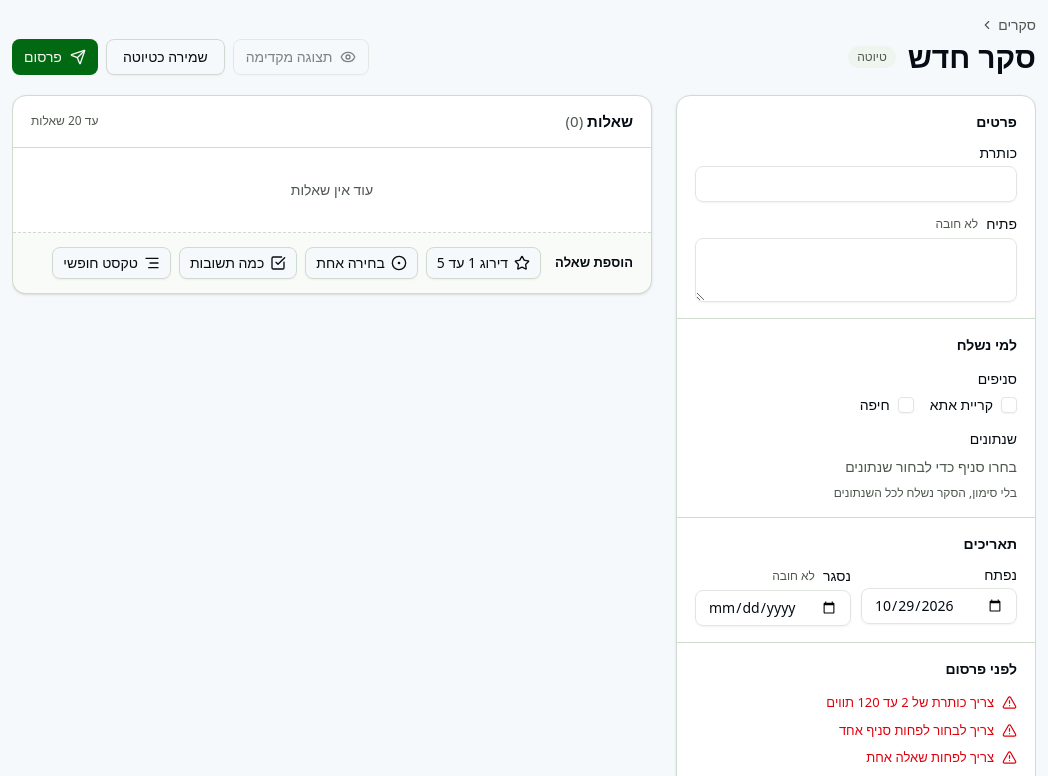
SurveyBuilder: options › a blank option is outlined only after a publish was tried
The image size is (1048, 776).
Click the button "בחירה אחת" at (362, 262), box [305,246,418,278]
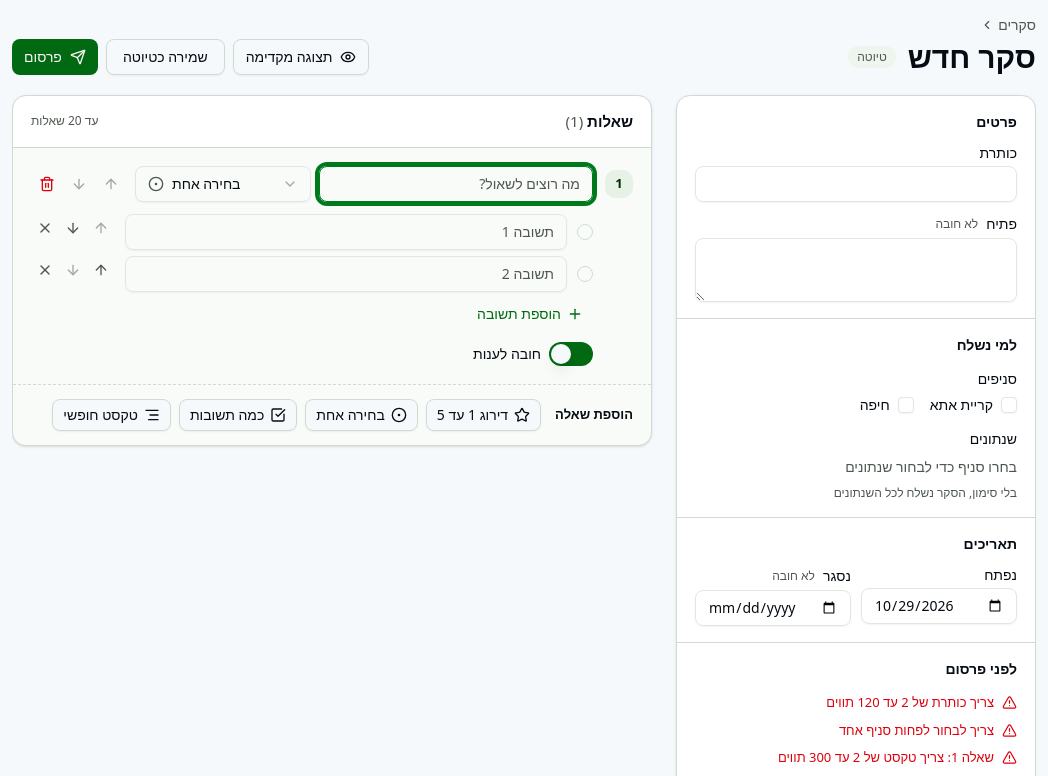
Type "פעם אחת" into the field named "תשובה 1 בשאלה 1" at (346, 232), box [125,214,567,250]
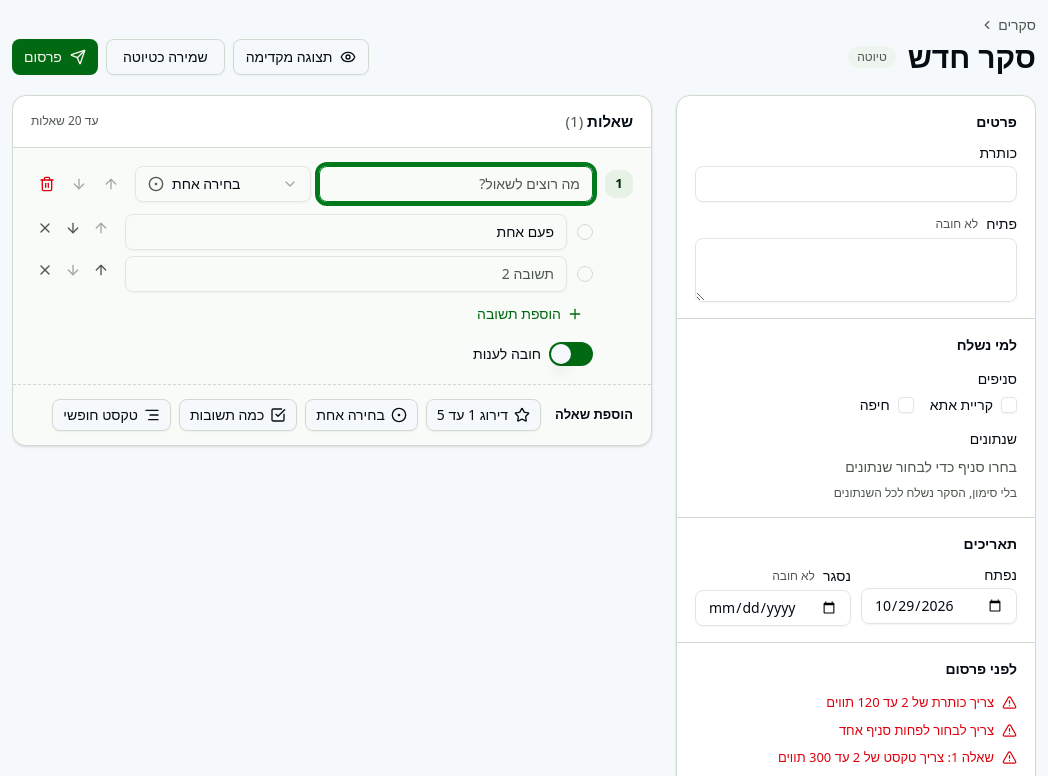
Type "פעמיים" into the field named "תשובה 2 בשאלה 1" at (346, 274), box [125,256,567,292]
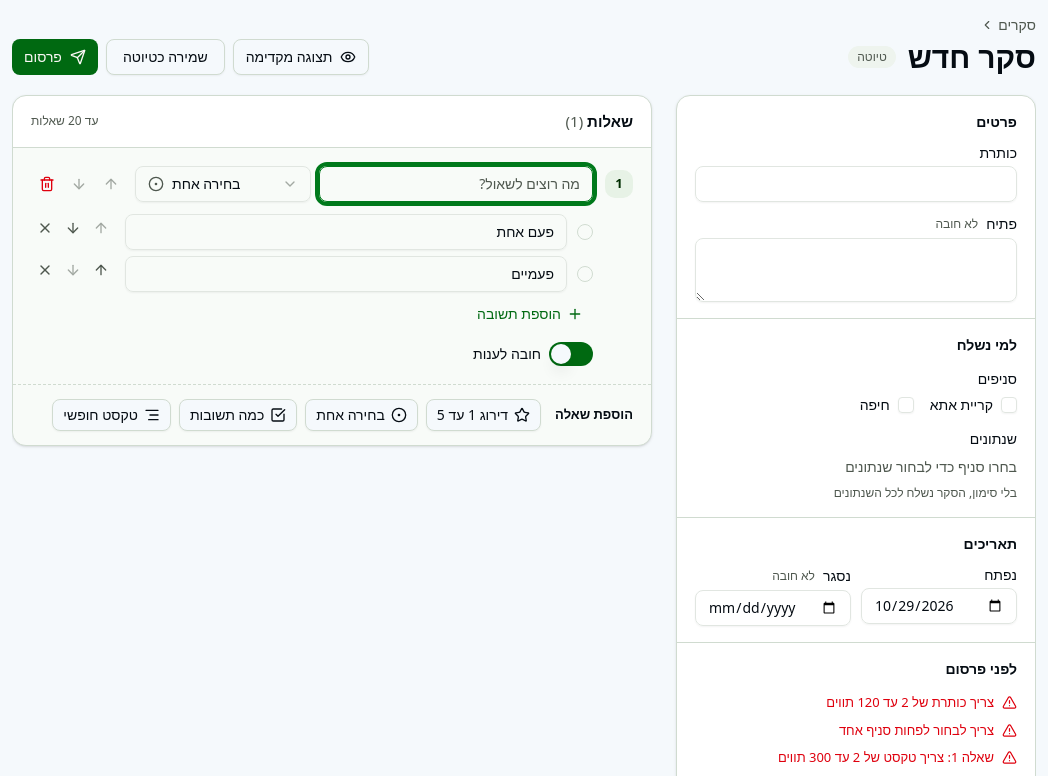
Click the button "הוספת תשובה" at (530, 314), box [467,298,593,330]
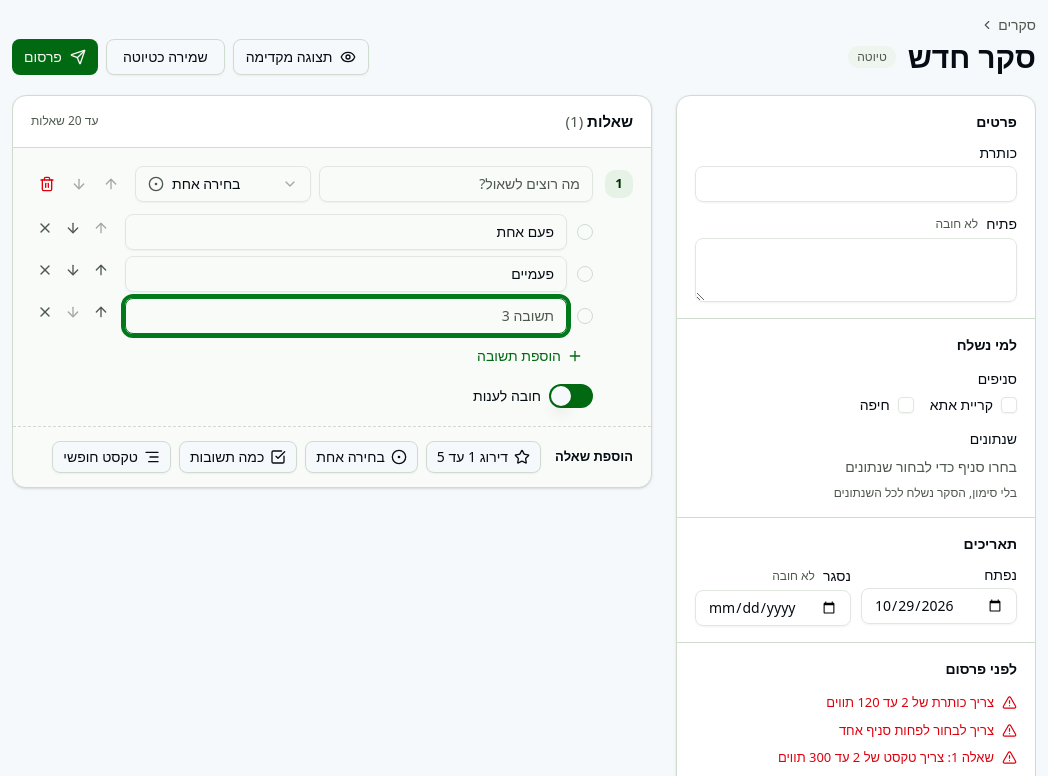
Expected: the text "צריך למלא את התשובה או למחוק אותה" is not shown
Click the button "פרסום" at (55, 57), box [12,39,98,75]
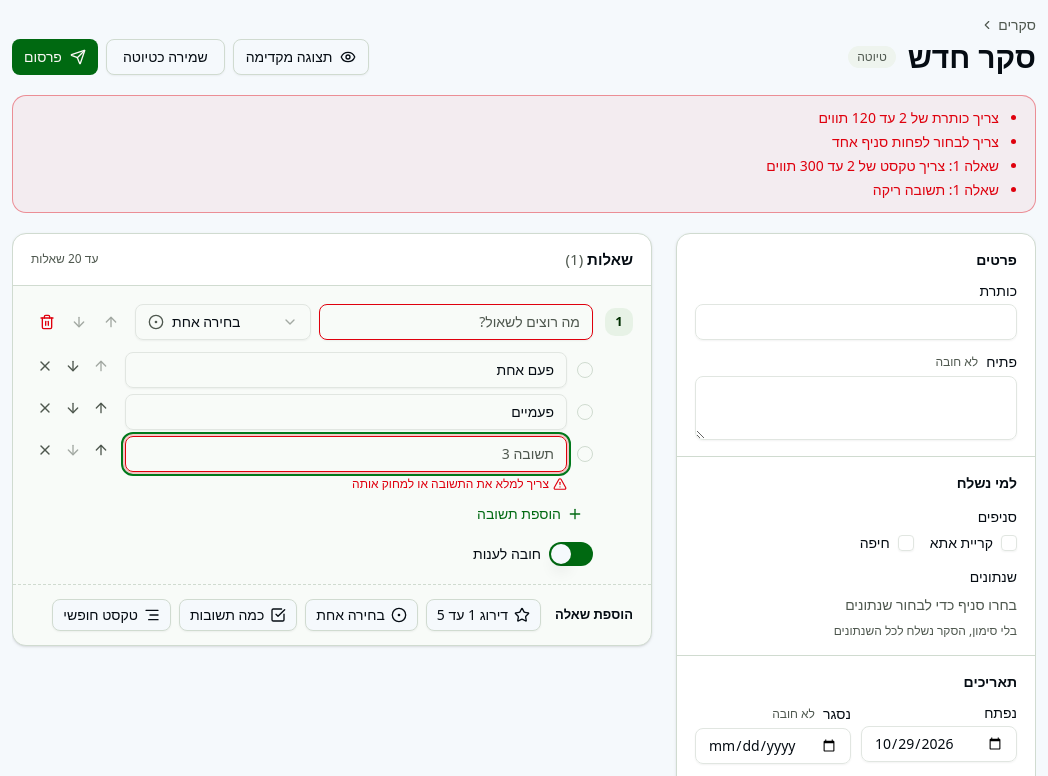
Result: the text "צריך למלא את התשובה או למחוק אותה" is shown at [352,474,567,492]
